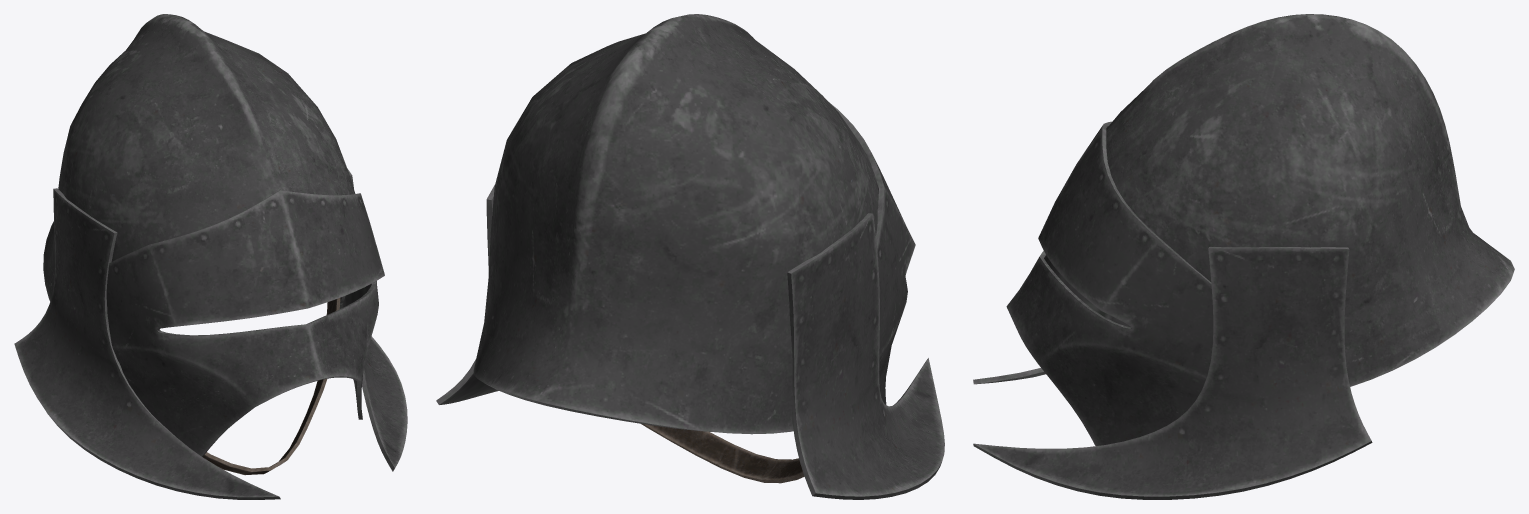
The model's file is sk_uruk_hai_helmet_sword_med_a4.fbx.
3 renders of one model, left to right at view 1: azimuth 30°, elevation 25°; view 2: azimuth 150°, elevation 25°; view 3: azimuth 270°, elevation 25°, orthographic. The views are drawn at different scales.
Parts seen in each view (by area): view 1: sk_uruk_hai_helmet_sword_med_a4.1, sk_uruk_hai_helmet_sword_med_a4.0; view 2: sk_uruk_hai_helmet_sword_med_a4.1, sk_uruk_hai_helmet_sword_med_a4.0; view 3: sk_uruk_hai_helmet_sword_med_a4.1.
Part boxes in pixels (bbox=[...]): sk_uruk_hai_helmet_sword_med_a4.1: bbox=[14, 14, 407, 499]; sk_uruk_hai_helmet_sword_med_a4.0: bbox=[203, 298, 340, 475]; sk_uruk_hai_helmet_sword_med_a4.1: bbox=[436, 14, 944, 499]; sk_uruk_hai_helmet_sword_med_a4.0: bbox=[641, 424, 804, 483]; sk_uruk_hai_helmet_sword_med_a4.1: bbox=[973, 14, 1514, 499].
Bounding box in the file's own units: 0.2651 × 0.3406 × 0.3151.
2 materials, 2 textured.
